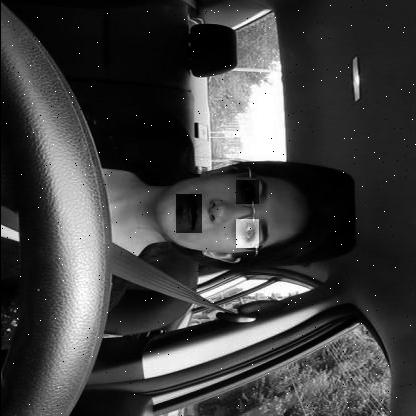seatbelt: (0, 152, 336, 306)
